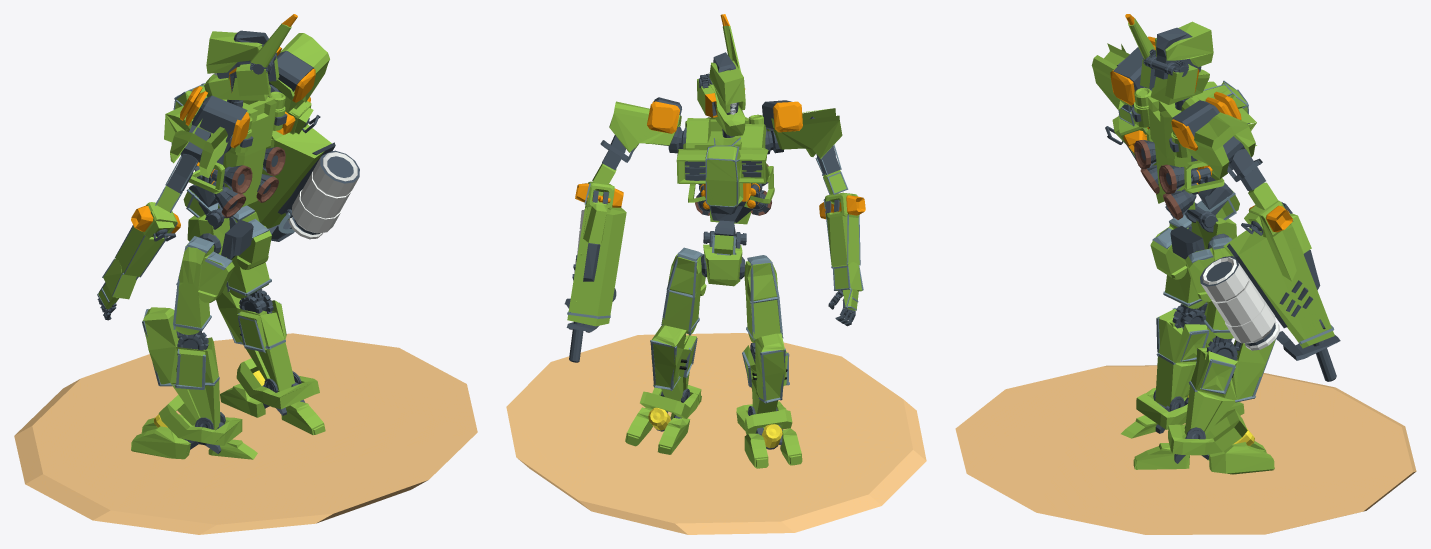
File: enemy_boss.glb
3 views of the same model, side by side, from view 1: azimuth 30°, elevation 25°; view 2: azimuth 150°, elevation 25°; view 3: azimuth 270°, elevation 25° (orthographic). The views are drawn at different scales.
Parts seen in each view (by area): view 1: group2089809558; view 2: group2089809558; view 3: group2089809558.
Part boxes in pixels (x1=…): group2089809558: x1=14, y1=14, x2=477, y2=534; group2089809558: x1=506, y1=14, x2=926, y2=534; group2089809558: x1=955, y1=14, x2=1416, y2=534.
Size of the model in its own units: 4.59 by 4.93 by 4.44.
Materials: 1 (1 with a texture image).
